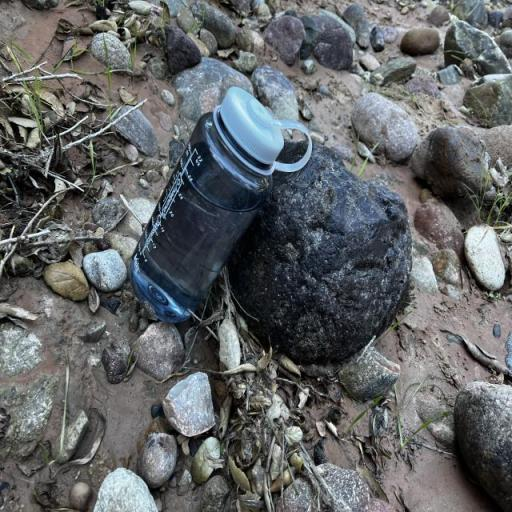bottle: (131, 86, 312, 324)
